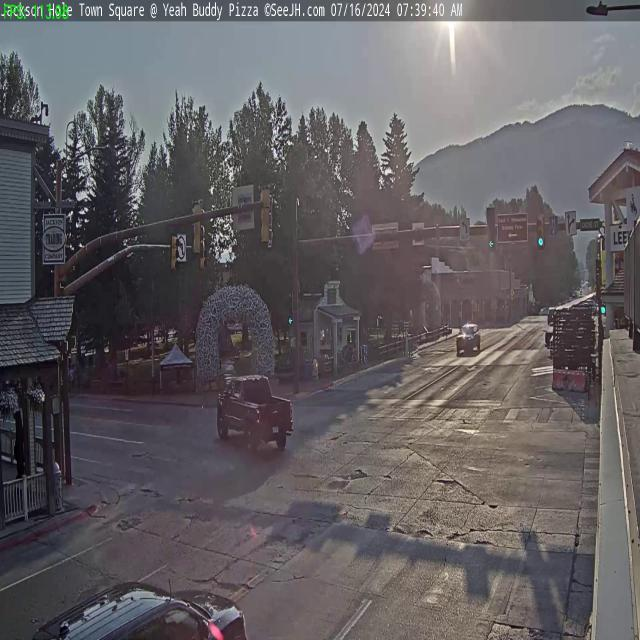pickup: (216, 377, 293, 458)
suv: (23, 574, 250, 640), (456, 322, 482, 355)
traffic light: (260, 184, 273, 245), (191, 198, 203, 255), (487, 206, 496, 247), (170, 235, 178, 272), (537, 214, 545, 248)
